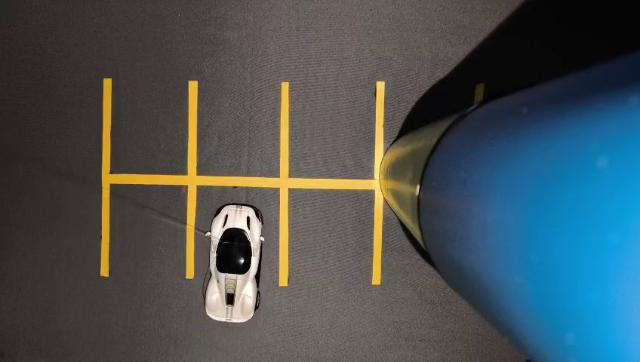toy_car: (185, 183, 277, 339)
